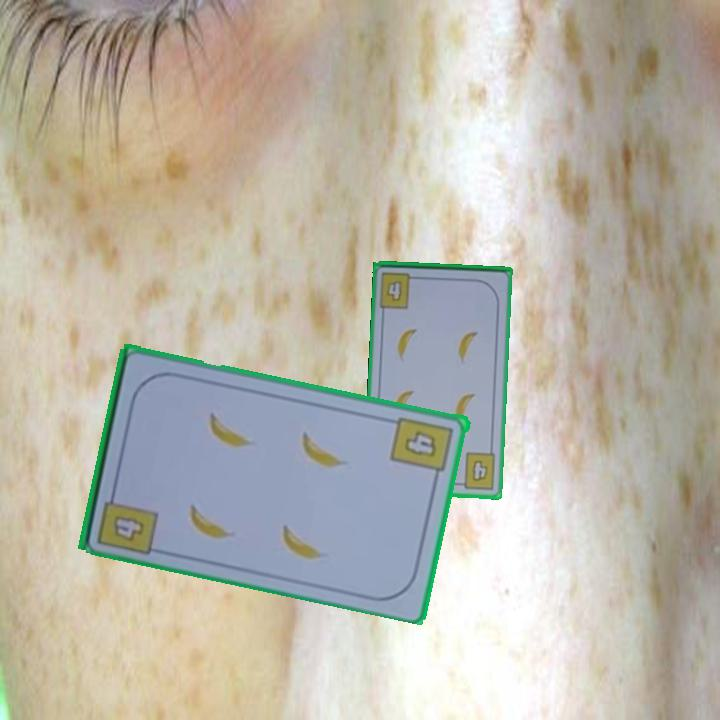4b: (388, 413, 457, 484), (376, 268, 422, 311), (454, 449, 499, 492), (109, 511, 148, 544)
